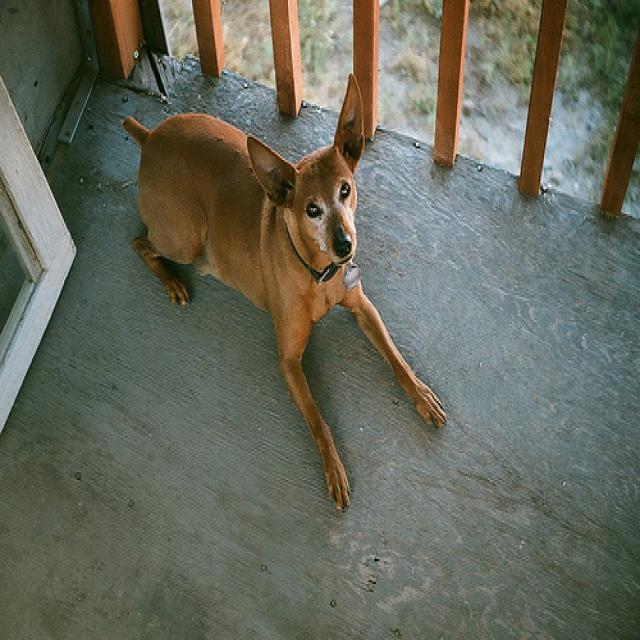dog-miniature_pinscher: (114, 67, 452, 515)
